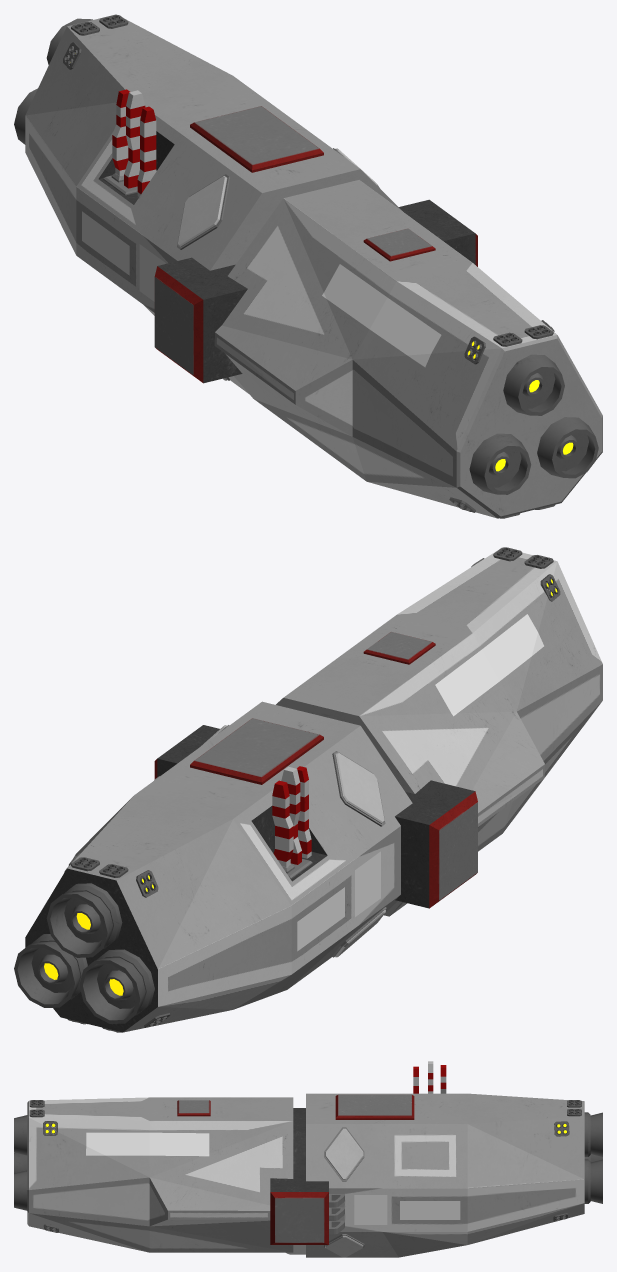
File: Moxella Frigate Hull Decals.fbx
3 renders of one model, top to bottom at view 1: azimuth 30°, elevation 25°; view 2: azimuth 150°, elevation 25°; view 3: azimuth 270°, elevation 25°, orthographic. The views are drawn at different scales.
Parts seen in each view (by area): view 1: MoxBow_LOD0, MoxStern_LOD0, MoxEngines_LOD0; view 2: MoxStern_LOD0, MoxBow_LOD0, MoxEngines_LOD0; view 3: MoxBow_LOD0, MoxStern_LOD0, MoxEngines_LOD0.
Part boxes in pixels (x1,y1,x2,y2): MoxBow_LOD0: (154,148,602,518); MoxStern_LOD0: (25,14,402,393); MoxEngines_LOD0: (14,14,598,518); MoxStern_LOD0: (25,701,412,1032); MoxBow_LOD0: (154,549,602,957); MoxEngines_LOD0: (14,547,560,1032); MoxBow_LOD0: (27,1097,364,1257); MoxStern_LOD0: (286,1061,584,1257); MoxEngines_LOD0: (14,1100,602,1232).
Size of what is drawn, in the model's own units: 458 by 1294 by 386.
